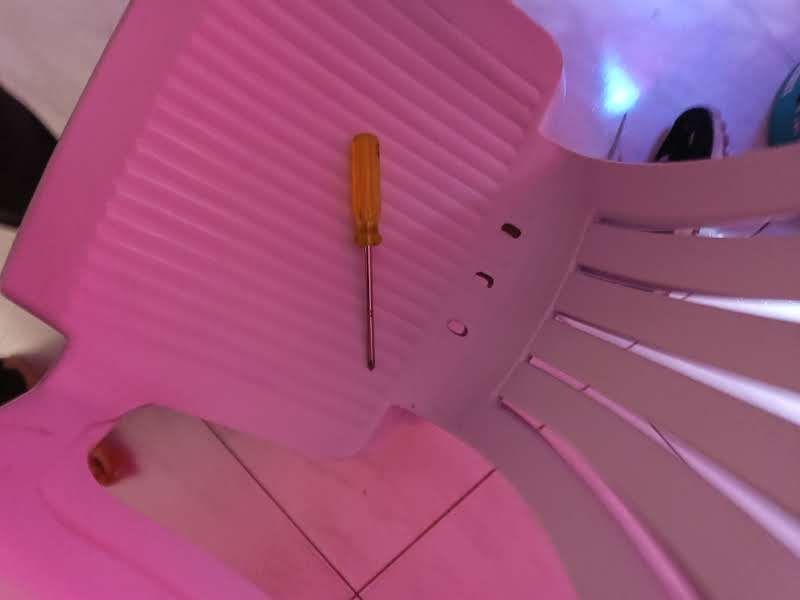Destornillador: (351, 132, 382, 369)
